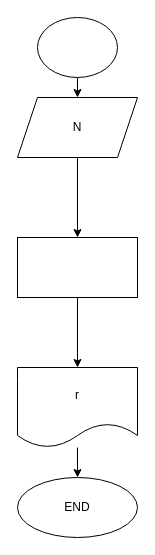
Some shapes in this 155 by 555 pixel diagram are drawn without their labels. The box of each missing label's shape, as (x1, y1, x2, y2) in pixels:
r = rondom(1,N): (16, 236, 138, 298)
Start: (36, 16, 118, 78)
